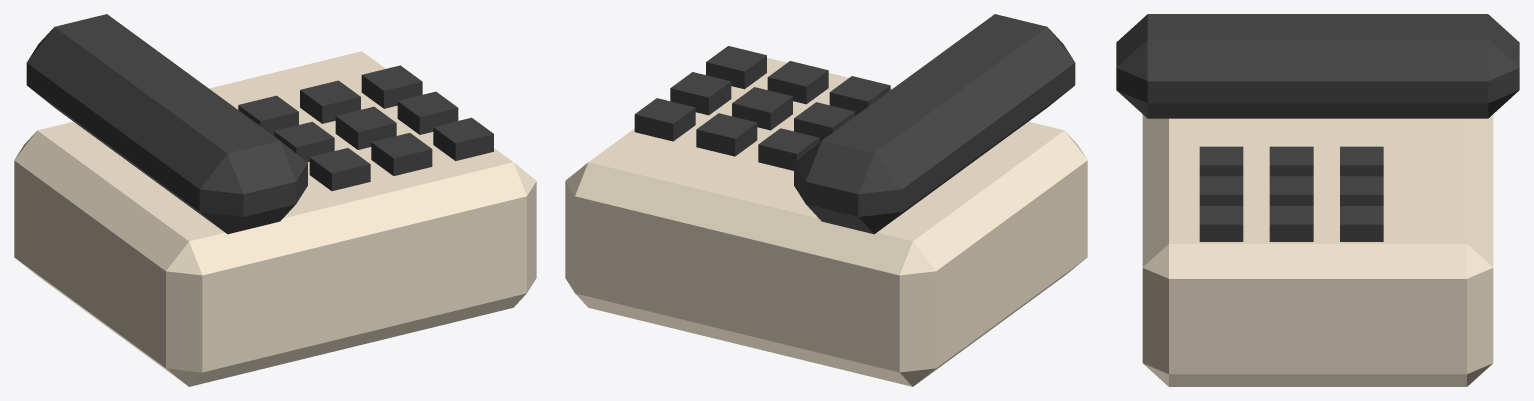
The picture shows the model from 3 angles, left to right: view 1: azimuth 30°, elevation 25°; view 2: azimuth 150°, elevation 25°; view 3: azimuth 270°, elevation 25°; orthographic projection.
Visible parts, largest first — view 1: Telephone base, Handset, Key, Key.003, Key.006, Key.004, Key.007, Key.008, Key.005, Key.001, Key.002; view 2: Telephone base, Handset, Key.008, Key.005, Key.007, Key.003, Key.004, Key.006, Key.002, Key, Key.001; view 3: Telephone base, Handset, Key.006, Key.007, Key.008, Key.001, Key, Key.002, Key.003, Key.004, Key.005.
Boxes of the visible parts, x1,y1,x2,y2 form: Telephone base: (14,51,536,386); Handset: (26,14,307,234); Key: (309,148,370,191); Key.003: (371,133,432,175); Key.006: (433,117,493,160); Key.004: (335,106,396,149); Key.007: (397,91,458,134); Key.008: (361,65,422,108); Key.005: (300,80,360,123); Key.001: (274,121,334,162); Key.002: (238,95,298,135); Telephone base: (565,58,1087,386); Handset: (794,14,1075,234); Key.008: (634,98,695,141); Key.005: (696,113,757,156); Key.007: (670,72,731,115); Key.003: (767,61,828,104); Key.004: (732,87,792,130); Key.006: (706,46,766,89); Key.002: (758,128,819,170); Key: (829,76,890,115); Key.001: (794,102,854,142); Telephone base: (1142,114,1493,386); Handset: (1116,14,1519,118); Key.006: (1199,206,1243,241); Key.007: (1269,206,1313,241); Key.008: (1340,206,1383,241); Key.001: (1269,146,1313,176); Key: (1199,146,1243,176); Key.002: (1340,146,1383,176); Key.003: (1199,176,1243,205); Key.004: (1269,176,1313,205); Key.005: (1340,176,1383,205).
Bounding box in the file's own units: 0.24 × 0.145 × 0.23.
1 material, 1 textured.
